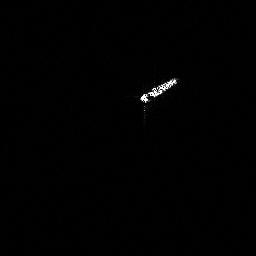ship: (137, 74, 180, 105)
